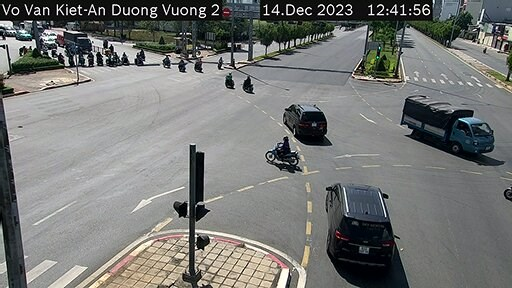car: (320, 172, 400, 268), (275, 100, 329, 143)
motorbike: (268, 129, 303, 173), (237, 73, 252, 98), (223, 69, 237, 91), (190, 56, 204, 77), (158, 54, 173, 70), (215, 55, 226, 75), (176, 59, 188, 74), (137, 48, 147, 62)
truck: (397, 89, 494, 159), (62, 25, 93, 52)
